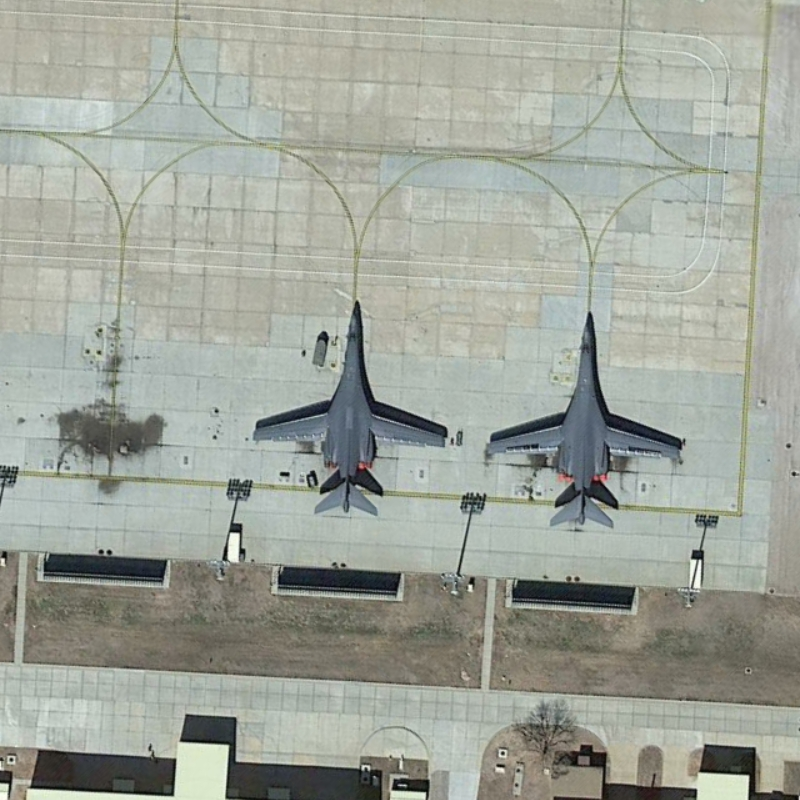A10: (247, 296, 463, 523), (482, 297, 688, 533)
